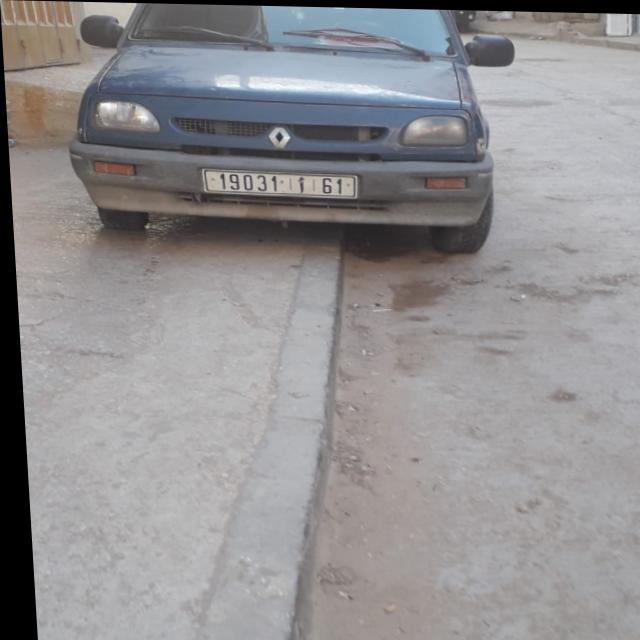License-Plate: (199, 168, 356, 197)
